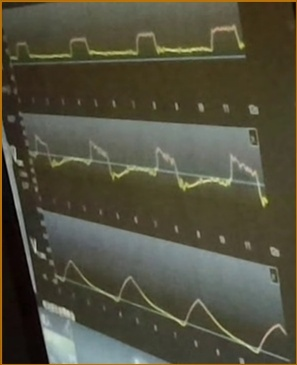Accumulation Flow: (30, 132, 267, 209)
Volume: (56, 256, 285, 353)
